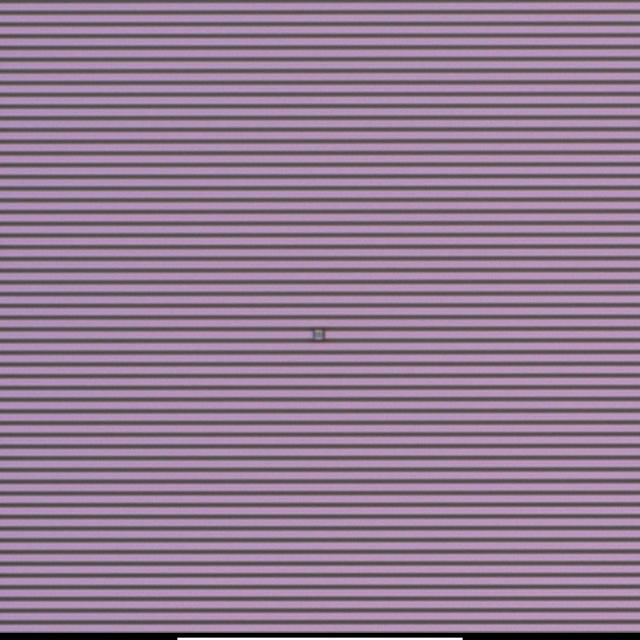03_intrusion: (306, 314, 334, 349)
